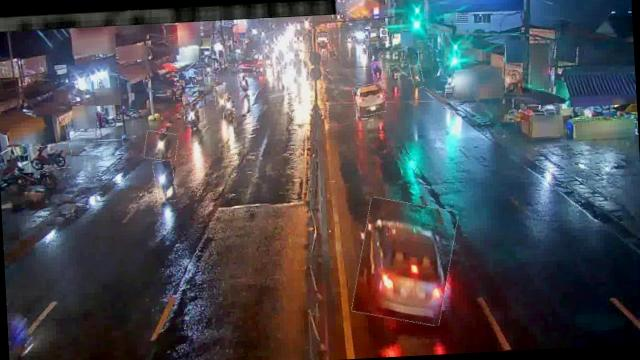Bike: (28, 143, 72, 171), (144, 130, 178, 162), (154, 158, 176, 202), (183, 99, 206, 126), (222, 95, 234, 124), (410, 64, 423, 88), (238, 74, 250, 98), (214, 86, 225, 112), (388, 64, 401, 82), (372, 61, 383, 81)
Car: (352, 197, 458, 326), (353, 83, 387, 116)
